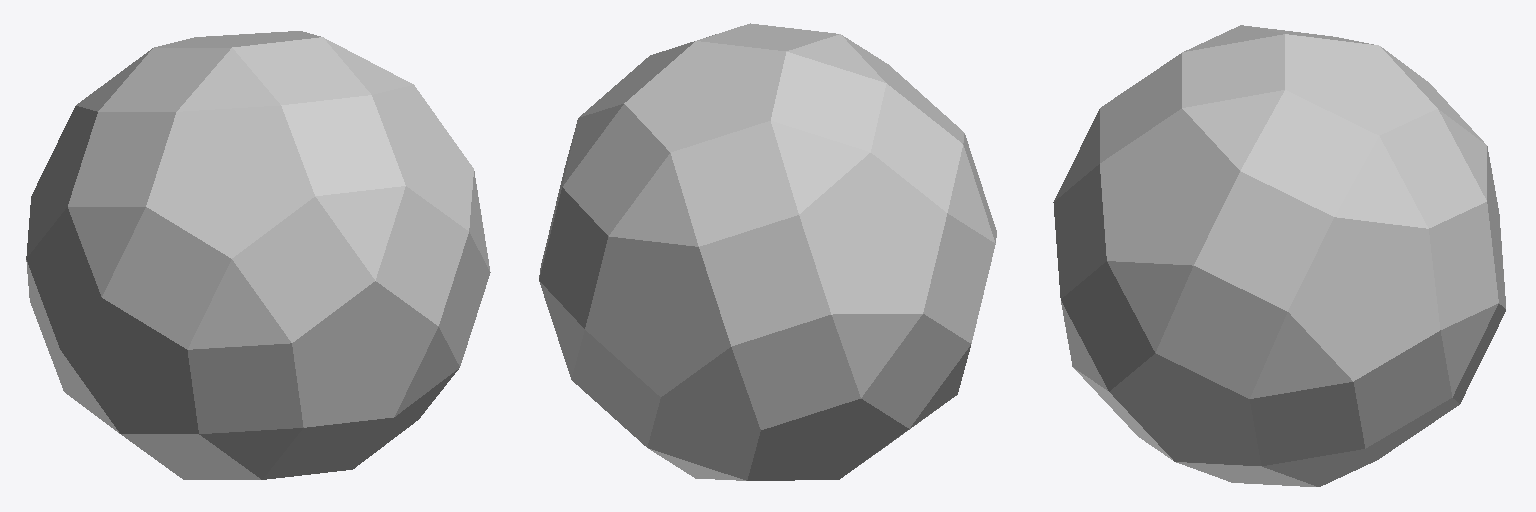
The model's file is TriGyrateRhombIcosiDodecahedron.obj.
The picture shows the model from 3 angles: view 1: azimuth 30°, elevation 25°; view 2: azimuth 150°, elevation 25°; view 3: azimuth 270°, elevation 25°; orthographic projection.
Visible parts, largest first — view 1: TriGyrateRhombIcosiDodecahedron; view 2: TriGyrateRhombIcosiDodecahedron; view 3: TriGyrateRhombIcosiDodecahedron.
Boxes of the visible parts, <box> form: TriGyrateRhombIcosiDodecahedron: <box>26,31,490,479</box>; TriGyrateRhombIcosiDodecahedron: <box>539,23,996,480</box>; TriGyrateRhombIcosiDodecahedron: <box>1053,25,1505,486</box>.
Bounding box in the file's own units: 3.28 × 3.33 × 3.23.